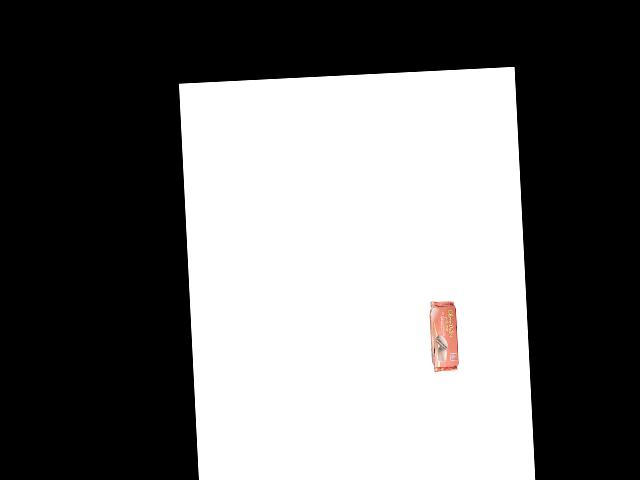chocolate: (422, 299, 459, 373)
